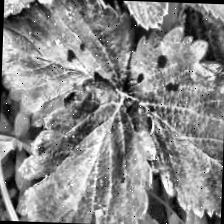Leaf Spot: (16, 66, 161, 224), (118, 21, 224, 219), (0, 0, 137, 131), (3, 0, 85, 22)
